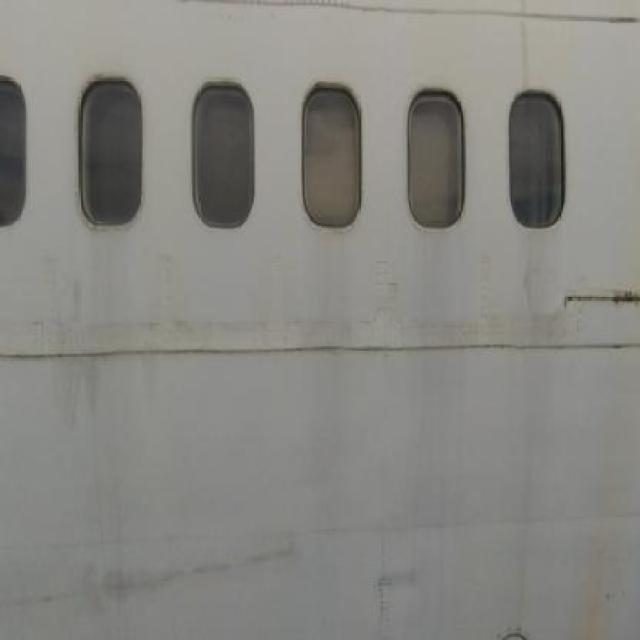Scartch: (561, 273, 640, 309)
